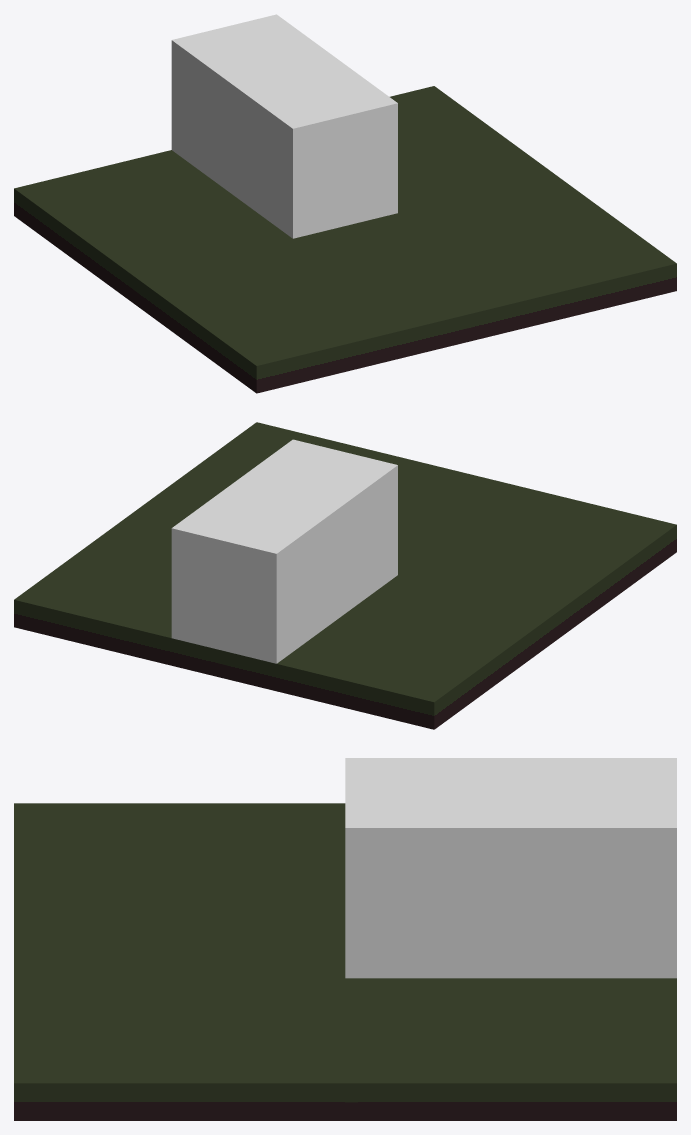
File: stair_up_arrival_room_8x8m.glb
The picture shows the model from 3 angles, top to bottom: view 1: azimuth 30°, elevation 25°; view 2: azimuth 150°, elevation 25°; view 3: azimuth 270°, elevation 25°; orthographic projection. The views are drawn at different scales.
Parts seen in each view (by area): view 1: FLOOR_1, SPAWN_PLAYER_ARRIVAL, STATIC_STAIRWAY_ARRIVAL; view 2: FLOOR_1, STATIC_STAIRWAY_ARRIVAL, SPAWN_PLAYER_ARRIVAL; view 3: FLOOR_1, SPAWN_PLAYER_ARRIVAL, STATIC_STAIRWAY_ARRIVAL.
Boxes of the visible parts, x1=… form: FLOOR_1: x1=14, y1=86, x2=676, y2=393; SPAWN_PLAYER_ARRIVAL: x1=232, y1=59, x2=397, y2=238; STATIC_STAIRWAY_ARRIVAL: x1=171, y1=14, x2=336, y2=193; FLOOR_1: x1=14, y1=422, x2=676, y2=729; STATIC_STAIRWAY_ARRIVAL: x1=171, y1=484, x2=337, y2=663; SPAWN_PLAYER_ARRIVAL: x1=232, y1=439, x2=397, y2=618; FLOOR_1: x1=14, y1=803, x2=676, y2=1120; SPAWN_PLAYER_ARRIVAL: x1=345, y1=758, x2=511, y2=978; STATIC_STAIRWAY_ARRIVAL: x1=511, y1=758, x2=676, y2=978.
Size of the model in its own units: 8 by 2.5 by 8.
1 material, 1 textured.
